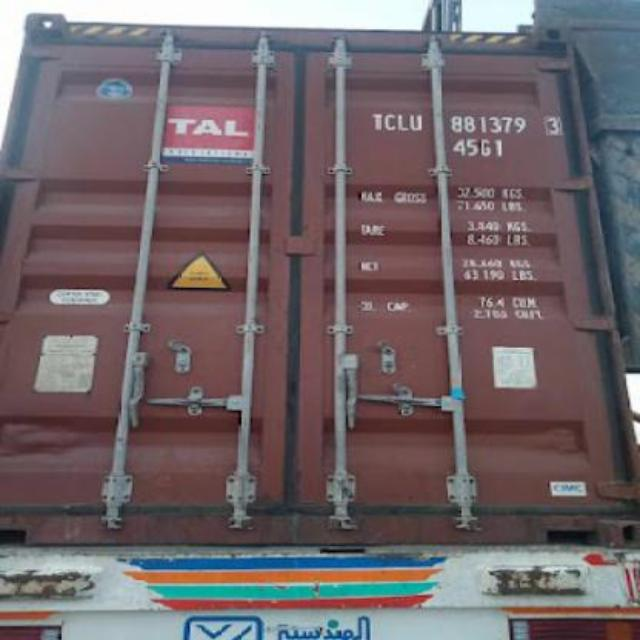1: (476, 109, 489, 135)
3: (544, 112, 562, 136), (488, 112, 502, 134)
7: (501, 110, 514, 140)
8: (448, 110, 464, 136), (464, 108, 476, 136)
9: (514, 111, 528, 141)
C: (384, 108, 398, 132)
L: (398, 108, 410, 136)
T: (371, 106, 384, 134)
U: (410, 108, 422, 136)
